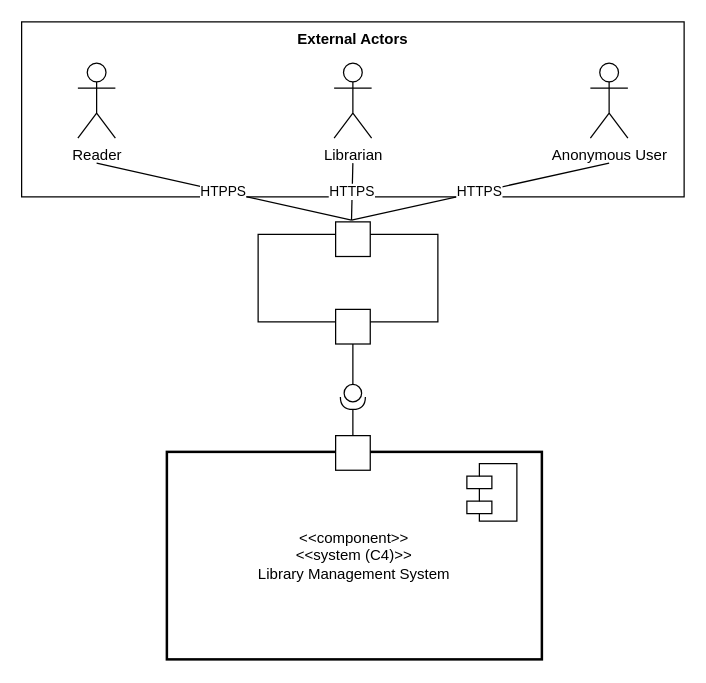
This 706x683 diagram has some shape labels left out. Here are the shapes that lost their labels. From the top down, the box of each, then its label:
(257, 233, 438, 322): «external» Frontend
(339, 383, 365, 409): REST/JSON (HTTPS) (provided interface)
